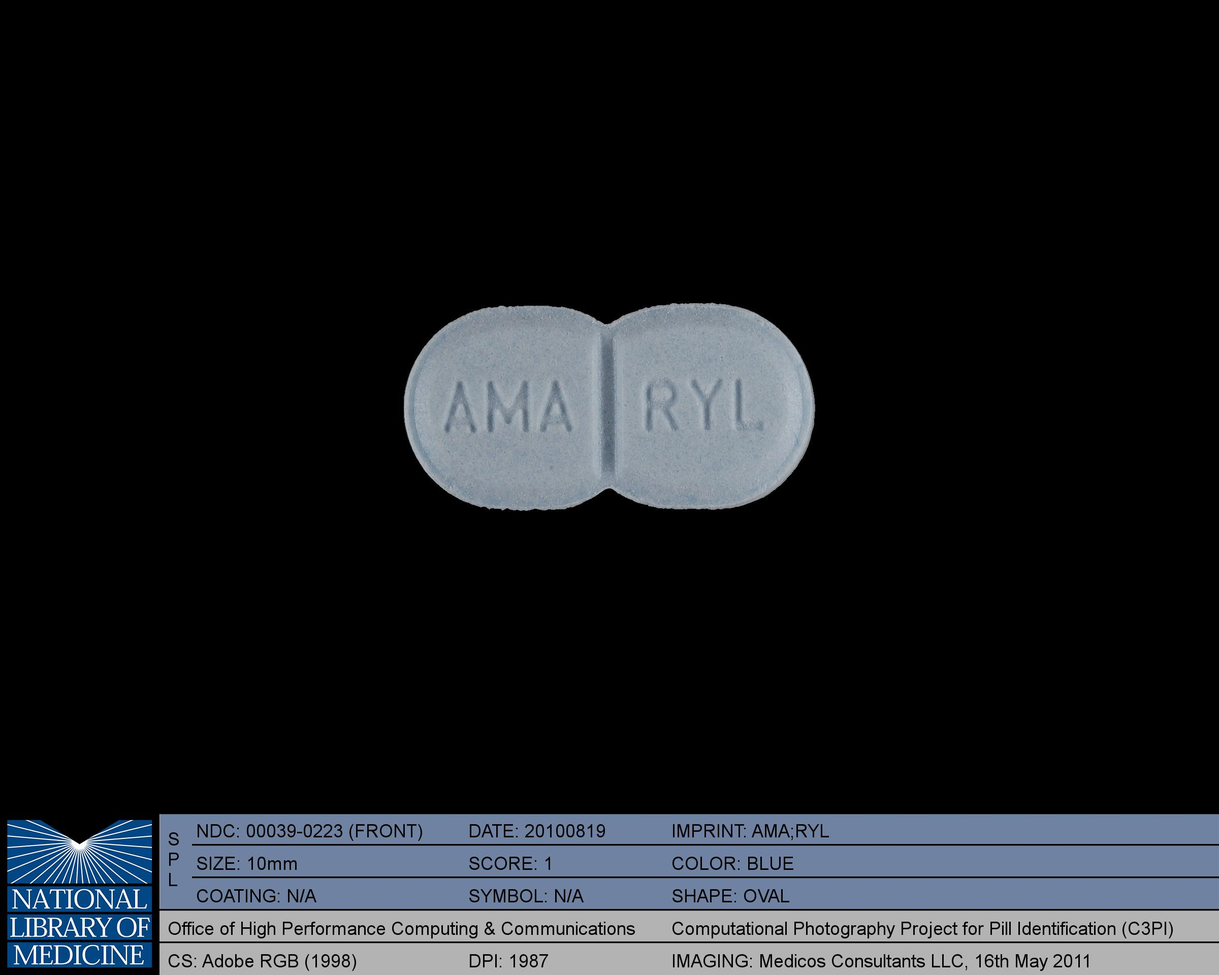Pill: (378, 292, 838, 529)
